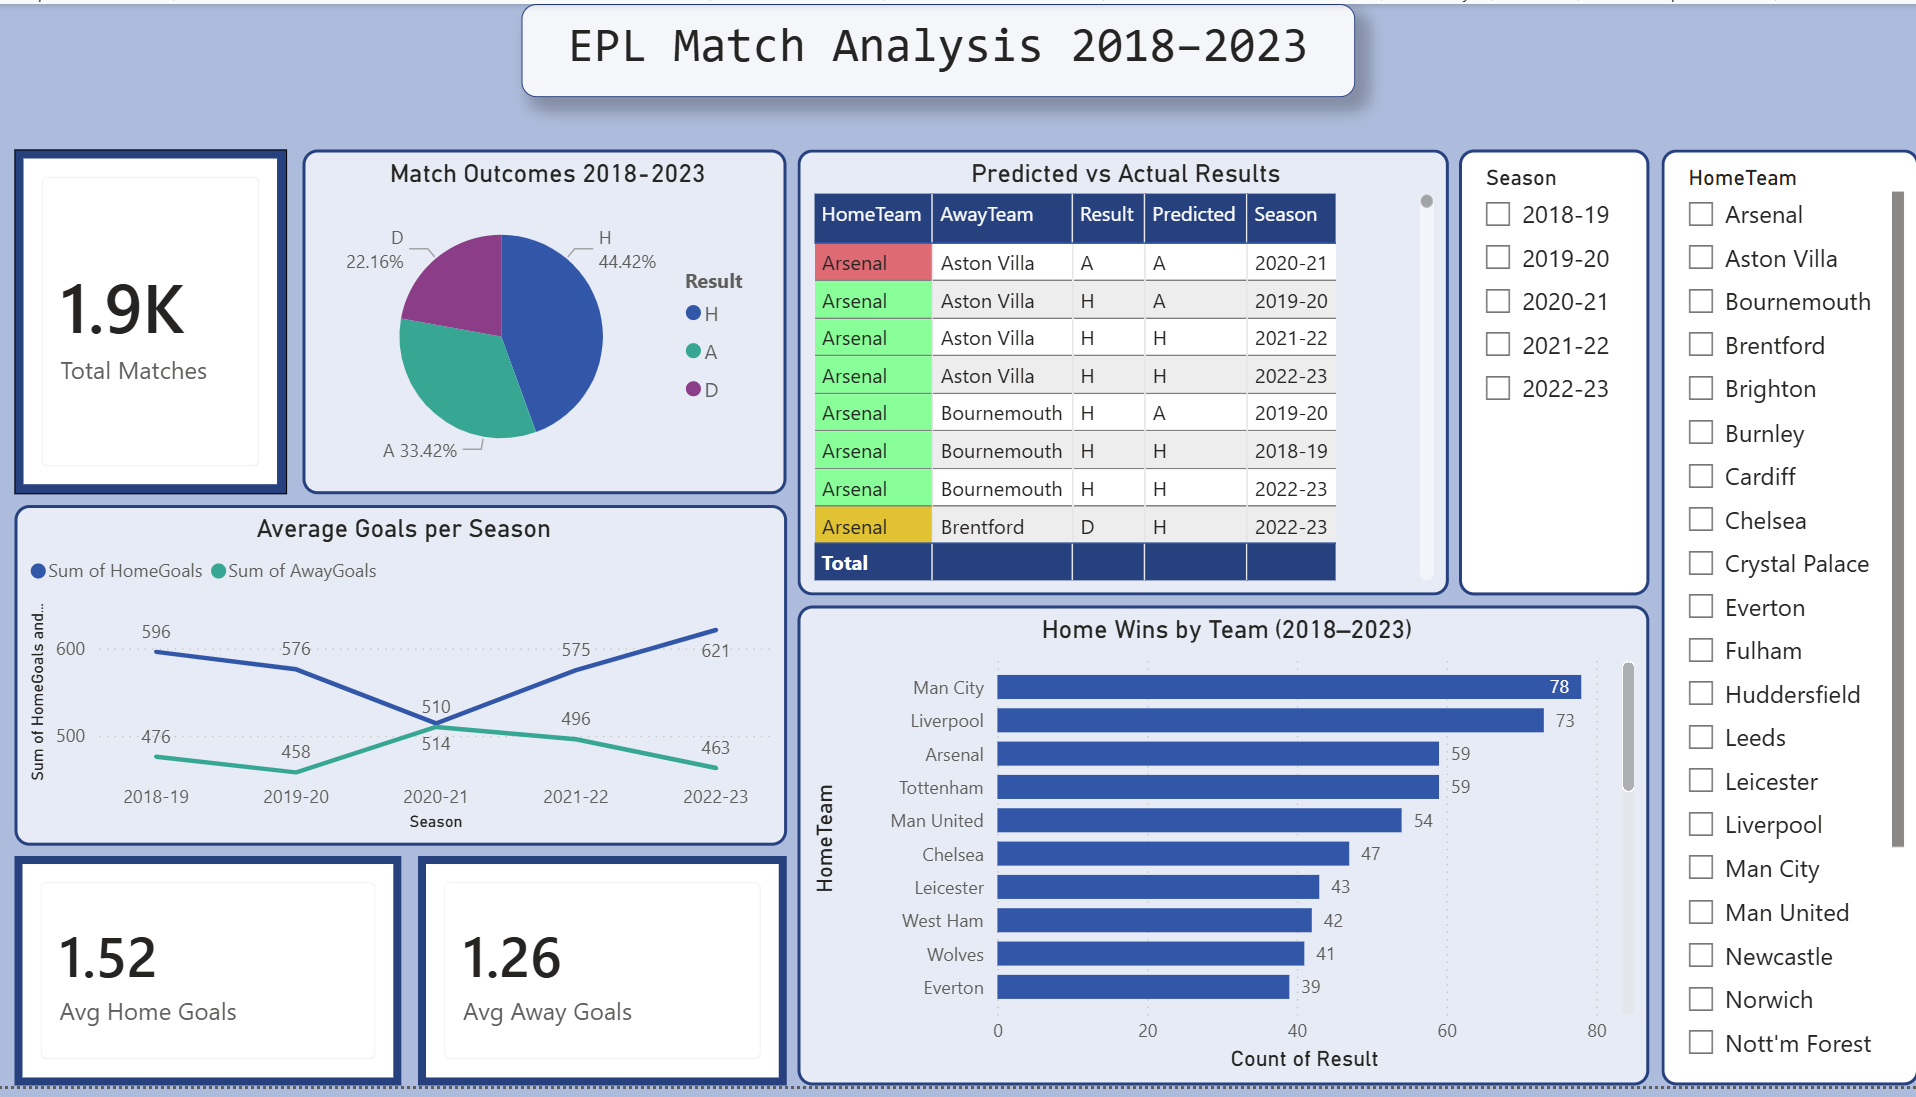

The dashboard page shown, as its layout file describes it:
{"tool":"powerbi","page":{"name":"Page 1","canvas":[1280,720],"ordinal":0},"visuals":[{"type":"pieChart","title":"Match Outcomes 2018-2023","fields":{"Category":["epl_clean_with_predictions.Result"],"Y":["CountNonNull(epl_clean_with_predictions.Result)"]},"box":[204.6,96.8,322.3,229.5],"z":0},{"type":"lineChart","title":"Average Goals per Season","fields":{"Category":["epl_clean_with_predictions.Season"],"Y":["Sum(epl_clean_with_predictions.HomeGoals)","Sum(epl_clean_with_predictions.AwayGoals)"]},"box":[13,333.3,513.9,226.5],"z":1000},{"type":"clusteredBarChart","title":"Home Wins by Team (2018–2023)","fields":{"Category":["epl_clean_with_predictions.HomeTeam"],"Y":["CountNonNull(epl_clean_with_predictions.Result)"]},"box":[533.9,400.2,566.8,319.3],"z":2000},{"type":"tableEx","title":"Predicted vs Actual Results","fields":{"Values":["epl_clean_with_predictions.HomeTeam","epl_clean_with_predictions.AwayTeam","epl_clean_with_predictions.Result","epl_clean_with_predictions.Predicted","epl_clean_with_predictions.Season"]},"box":[533.9,96.8,433.1,296.4],"z":3000},{"type":"slicer","fields":{"Values":["epl_clean_with_predictions.Season"]},"box":[974,96.8,126.7,296.4],"z":4000},{"type":"slicer","fields":{"Values":["epl_clean_with_predictions.HomeTeam"]},"box":[1108.7,96.8,171.6,622.7],"z":5000},{"type":"textbox","box":[350.3,0,554.8,61.9],"z":6000},{"type":"cardVisual","fields":{"Data":["CountNonNull(epl_clean_with_predictions.Result)"]},"box":[13,96.8,181.6,229.5],"z":7000},{"type":"cardVisual","fields":{"Data":["Avg(epl_clean_with_predictions.HomeGoals)"]},"box":[13,566.8,257.5,152.7],"z":8000},{"type":"cardVisual","fields":{"Data":["Avg(epl_clean_with_predictions.AwayGoals)"]},"box":[281.4,566.8,245.5,152.7],"z":9000}]}

Visuals, with their boxes in screenshot pixels (x1, y1, x2, y2), scaled from the page's 1280x720 canvas onto the 1916x1097 screenshot:
"Match Outcomes 2018-2023" pieChart: pyautogui.locateOnScreen(306, 147, 789, 497)
"Average Goals per Season" lineChart: pyautogui.locateOnScreen(19, 508, 789, 853)
"Home Wins by Team (2018–2023)" clusteredBarChart: pyautogui.locateOnScreen(799, 610, 1648, 1096)
"Predicted vs Actual Results" tableEx: pyautogui.locateOnScreen(799, 147, 1447, 599)
slicer - epl_clean_with_predictions.Season: pyautogui.locateOnScreen(1458, 147, 1648, 599)
slicer - epl_clean_with_predictions.HomeTeam: pyautogui.locateOnScreen(1660, 147, 1915, 1096)
textbox: pyautogui.locateOnScreen(524, 0, 1355, 94)
cardVisual - CountNonNull(epl_clean_with_predictions.Result): pyautogui.locateOnScreen(19, 147, 291, 497)
cardVisual - Avg(epl_clean_with_predictions.HomeGoals): pyautogui.locateOnScreen(19, 864, 405, 1096)
cardVisual - Avg(epl_clean_with_predictions.AwayGoals): pyautogui.locateOnScreen(421, 864, 789, 1096)
